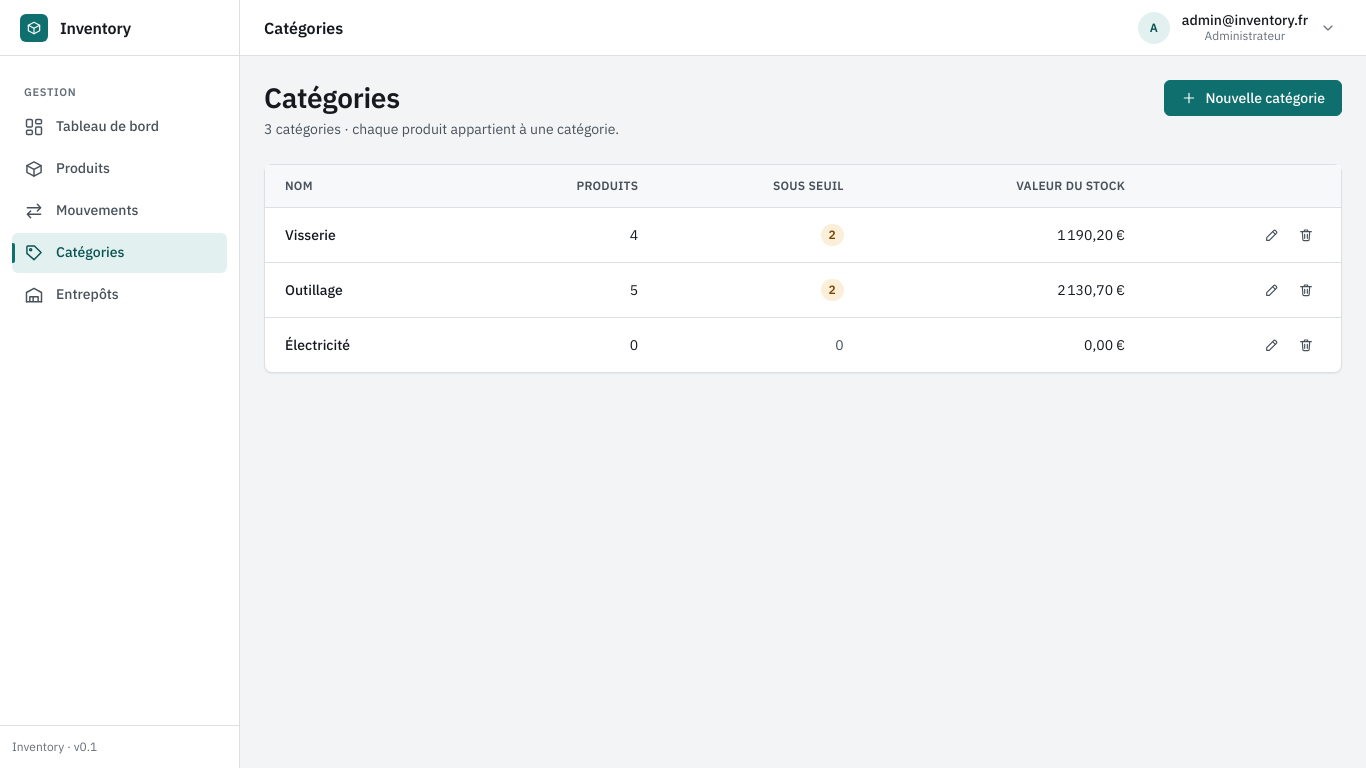
AppShell navigation › has no badge, and still works, when the counters cannot be loaded
Expected: the header is shown, [240,0,1365,56]
Click the link "Entrepôts".
click(71, 294)  # box [24,284,119,304]
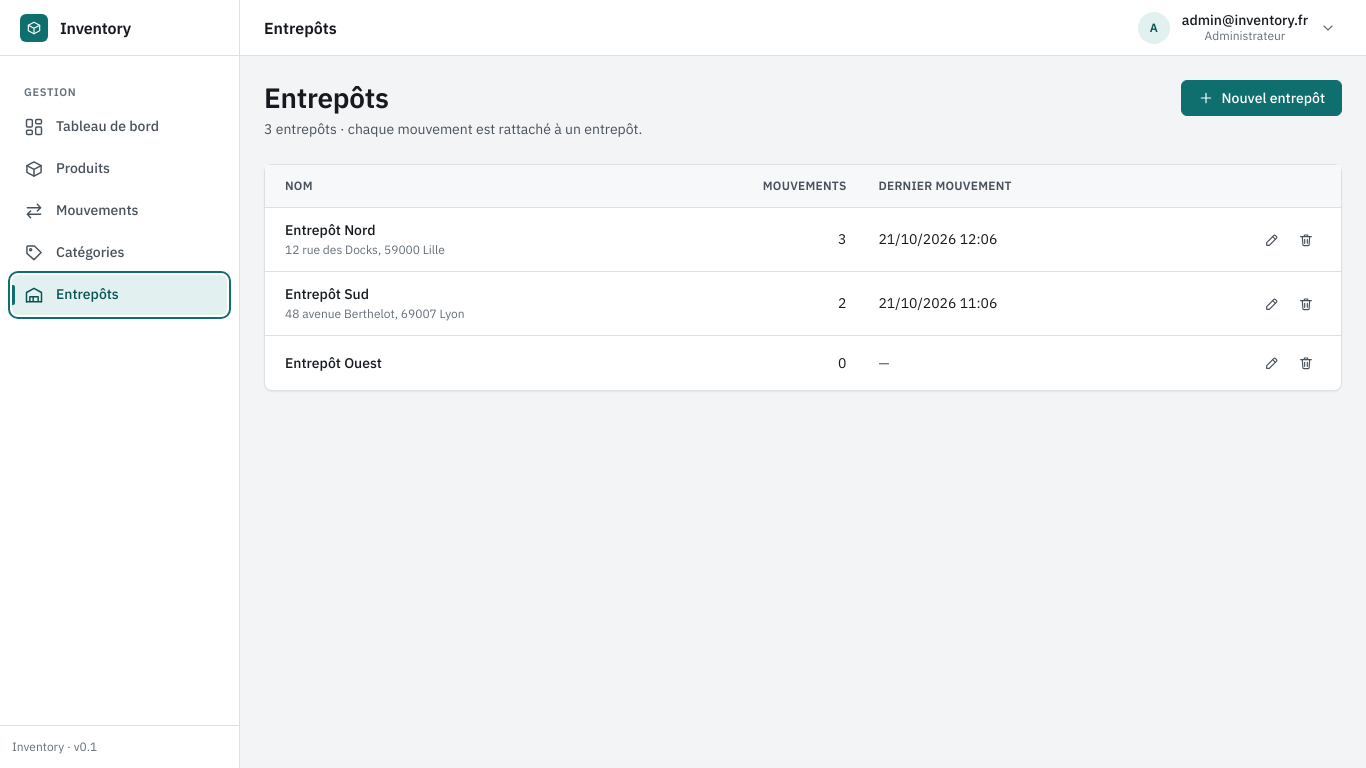
Expected: the link "Produits" is shown, [24,158,110,178]
Expected: the heading "Entrepôts" is shown, [264,79,389,116]
